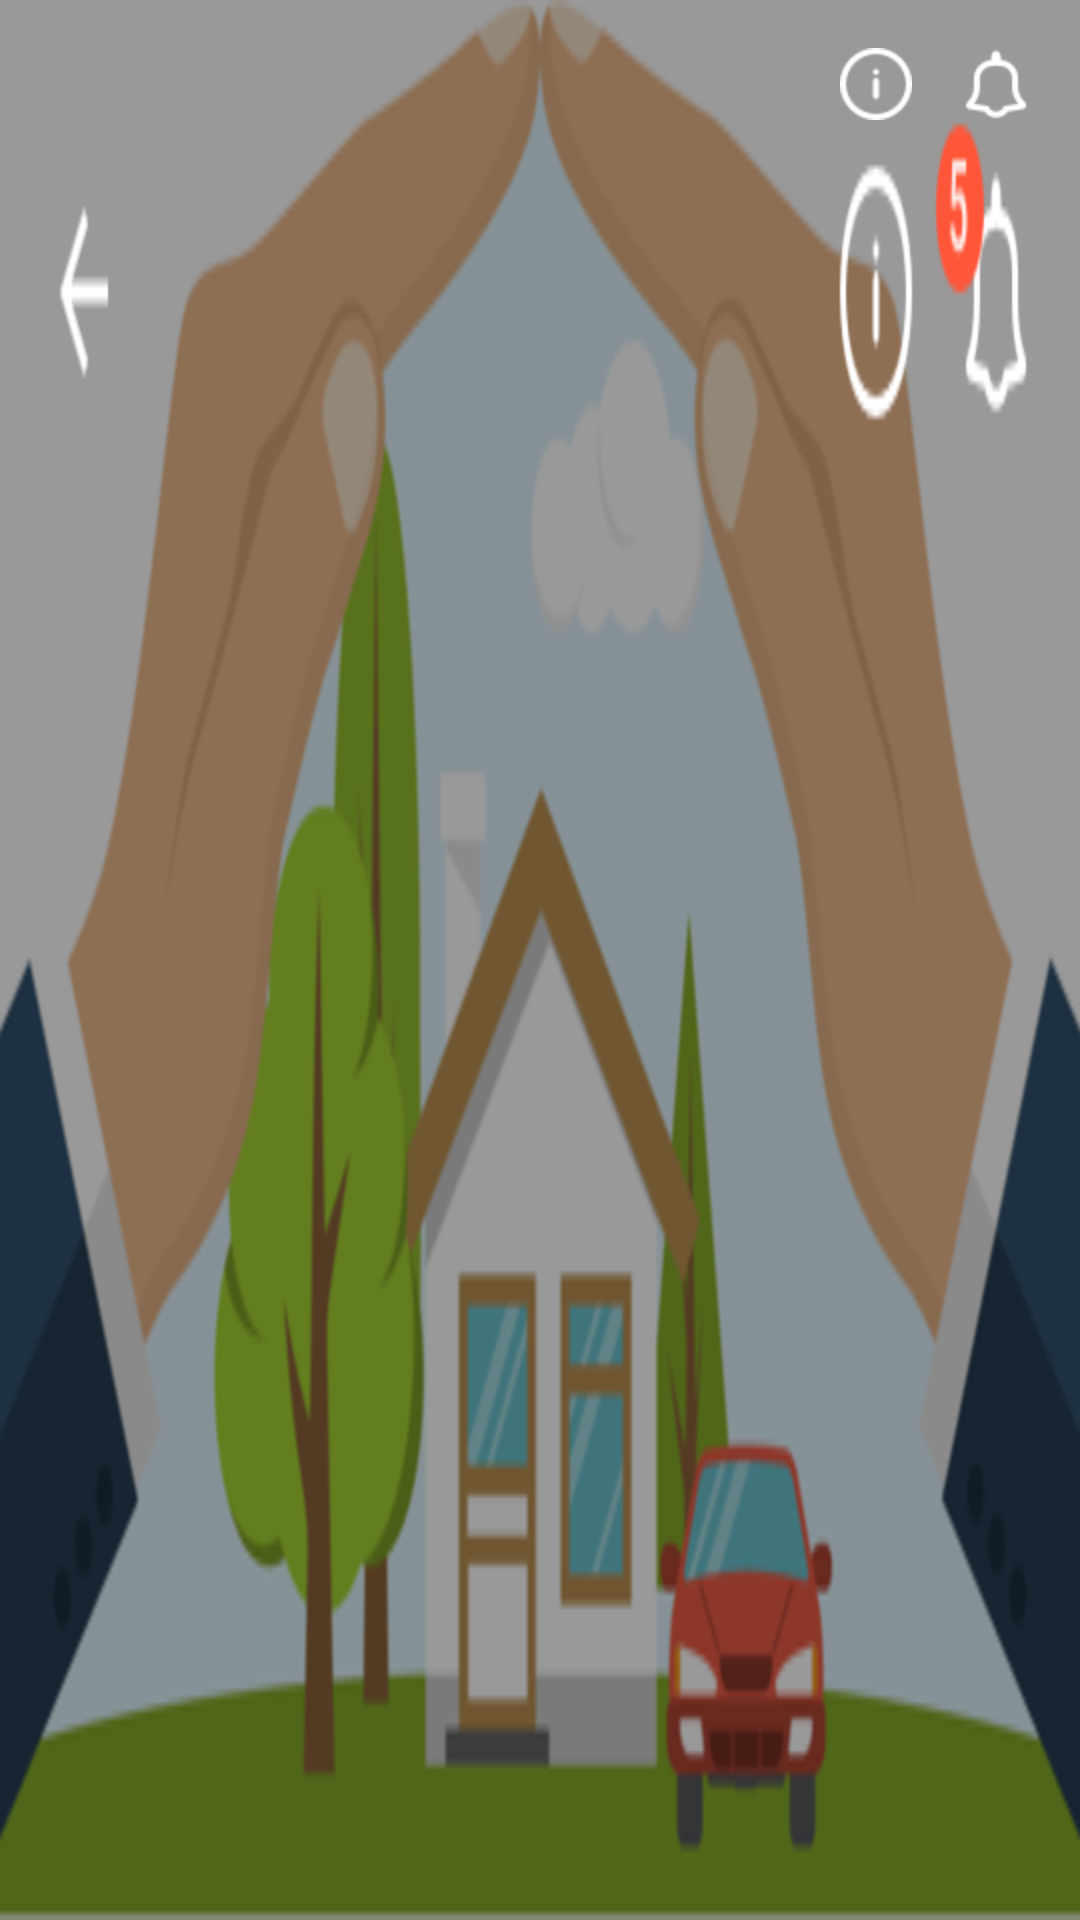

Named icons in this screenshot (1080 x 1920) and their centers, point (x, y):
info: point (876, 84)
notification: point (996, 84)
